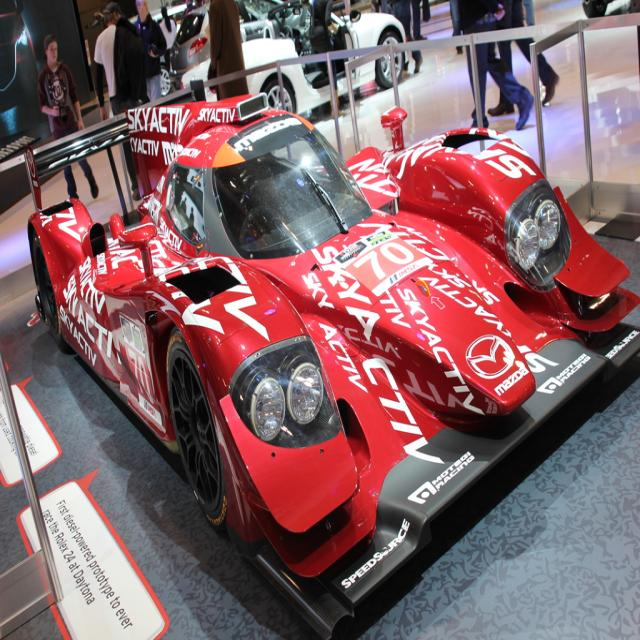car: (18, 65, 631, 628)
